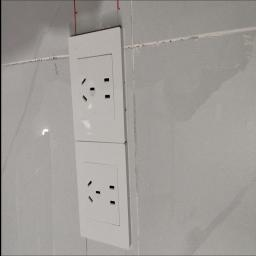outlet: (69, 16, 129, 143), (76, 140, 130, 252)
